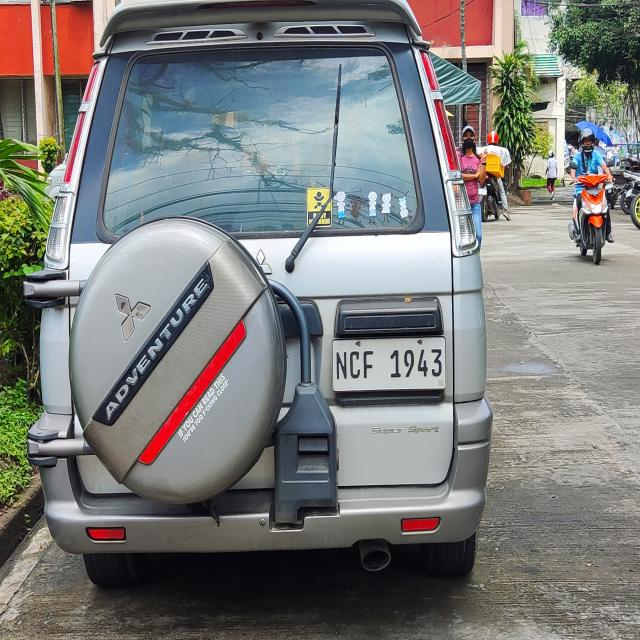plate: (331, 336, 446, 392)
